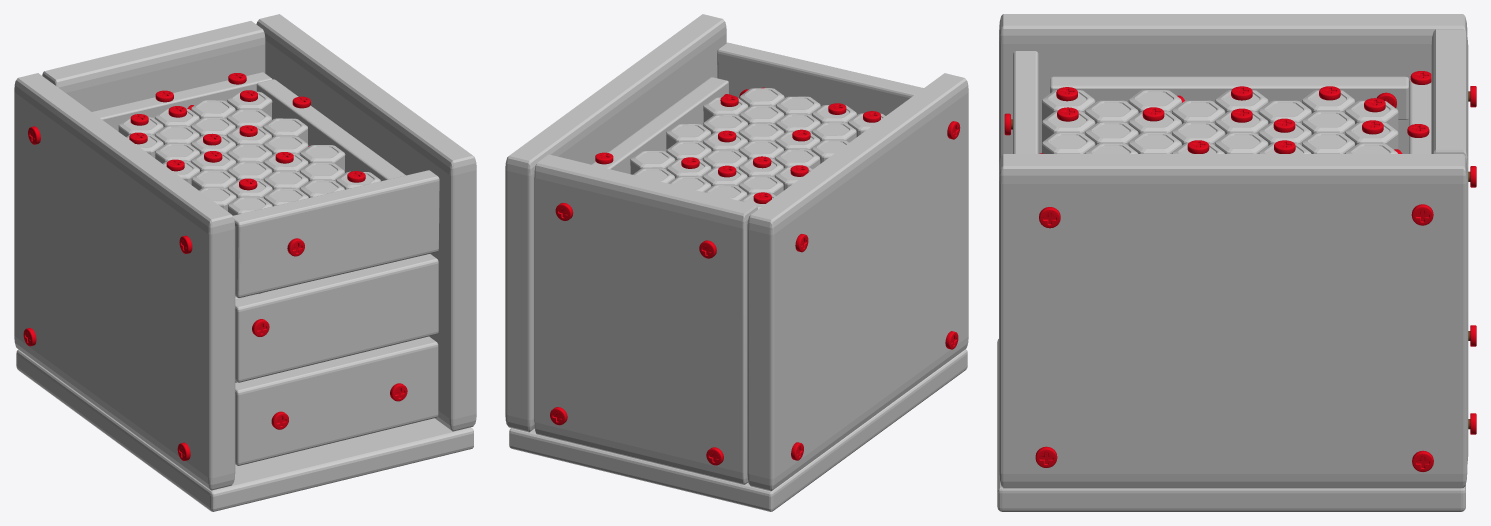
The model's file is lvl_78.fbx.
3 views of the same model, side by side, from view 1: azimuth 30°, elevation 25°; view 2: azimuth 150°, elevation 25°; view 3: azimuth 270°, elevation 25° (orthographic). The views are drawn at different scales.
Visible parts, largest first — view 1: Cube_L1_1, Cube_L1, Cube_L4_2, Cube_L5_2, Cube_L3_2, Cube_L1_3, Cube_L1_2, Cube_L4_1, Cube_L2_2, Cube_L4_4, Cube_L4_34, Cube_L4_3 (+16 smaller); view 2: Cube_L1_1, Cube_L1_2, Cube_L1, Cube_L1_3, Cube_L4_2, Cube_L4_1, Cube_L4_34, Cube_L4_4, Cube_L4_6, Cube_L4_3, Cube_L4_22, Cube_L4_13 (+10 smaller); view 3: Cube_L1, Cube_L1_1, Cube_L1_3, Cube_L4, Cube_L1_2, Cube_L4_2, Cube_L2_2, Cube_L4_12, Cube_L4_8, Cube_L4_3, Cube_L4_23, Cube_L4_6 (+15 smaller).
Boxes of the visible parts, <box> form: Cube_L1_1: <box>14,73,235,490</box>; Cube_L1: <box>256,14,476,431</box>; Cube_L4_2: <box>233,170,439,298</box>; Cube_L5_2: <box>235,254,438,382</box>; Cube_L3_2: <box>235,336,438,465</box>; Cube_L1_3: <box>16,349,473,511</box>; Cube_L1_2: <box>42,21,265,111</box>; Cube_L4_1: <box>256,79,405,181</box>; Cube_L2_2: <box>92,72,272,131</box>; Cube_L4_4: <box>300,145,345,173</box>; Cube_L4_34: <box>263,118,307,143</box>; Cube_L4_3: <box>191,170,236,190</box>; Cube_L1_1: <box>747,73,968,491</box>; Cube_L1_2: <box>534,154,757,484</box>; Cube_L1: <box>505,14,726,432</box>; Cube_L1_3: <box>509,349,967,511</box>; Cube_L4_2: <box>717,42,923,115</box>; Cube_L4_1: <box>591,77,728,174</box>; Cube_L4_34: <box>630,150,675,174</box>; Cube_L4_4: <box>666,124,711,149</box>; Cube_L4_6: <box>812,122,856,142</box>; Cube_L4_3: <box>775,149,820,169</box>; Cube_L4_22: <box>739,176,783,195</box>; Cube_L4_13: <box>739,105,784,124</box>; Cube_L1: <box>999,154,1467,488</box>; Cube_L1_1: <box>999,14,1467,169</box>; Cube_L1_3: <box>997,339,1465,511</box>; Cube_L4: <box>1050,76,1408,120</box>; Cube_L1_2: <box>1431,29,1468,463</box>; Cube_L4_2: <box>1013,51,1038,153</box>; Cube_L2_2: <box>1409,80,1431,153</box>; Cube_L4_12: <box>1042,132,1095,153</box>; Cube_L4_8: <box>1085,122,1138,145</box>; Cube_L4_3: <box>1172,100,1225,123</box>; Cube_L4_23: <box>1302,111,1354,134</box>; Cube_L4_6: <box>1085,100,1138,123</box>.
Bounding box in the file's own units: 12.44 × 12.66 × 15.49.
